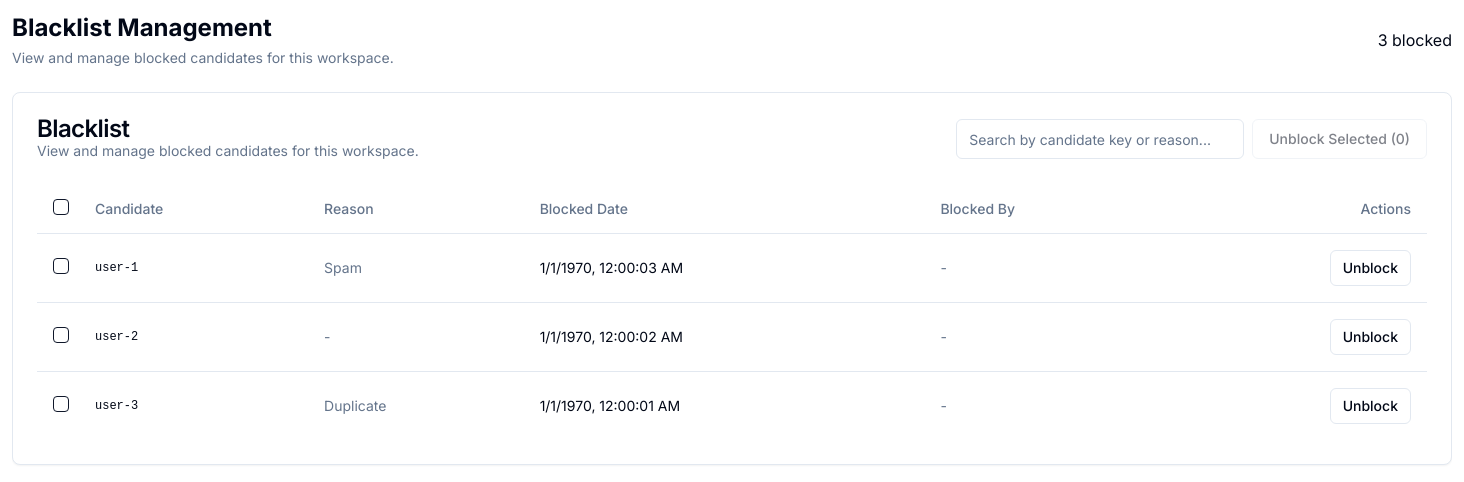
Test case: BlacklistPage › filters items by search keyword
Expected: the text "user-1" is shown, x1=79 y1=233 x2=308 y2=302
Type "user-2" into the field with placeholder "Search by candidate key or reason..." at (1100, 139), box x1=956 y1=119 x2=1244 y2=159
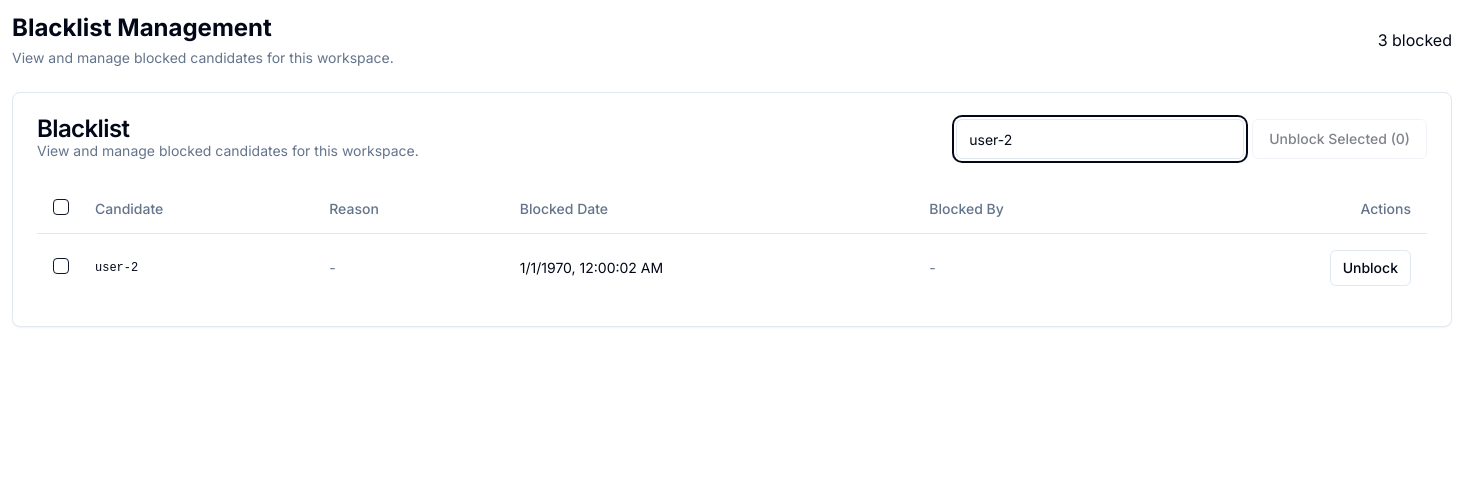
Expected: the text "user-2" is shown, x1=79 y1=233 x2=313 y2=302
Now the text "user-1" is gone
Now the text "user-3" is gone
